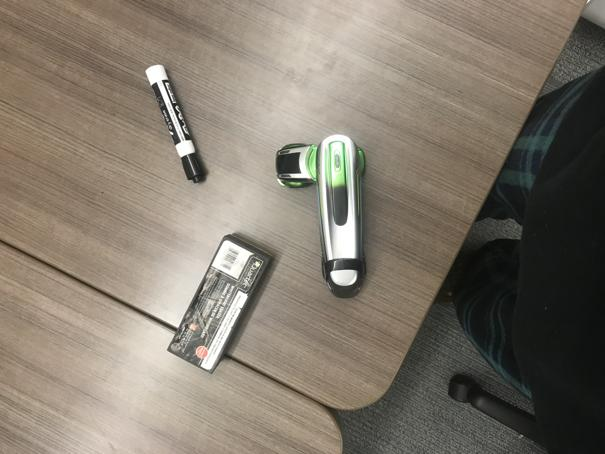Freewheel: (275, 131, 369, 298)
